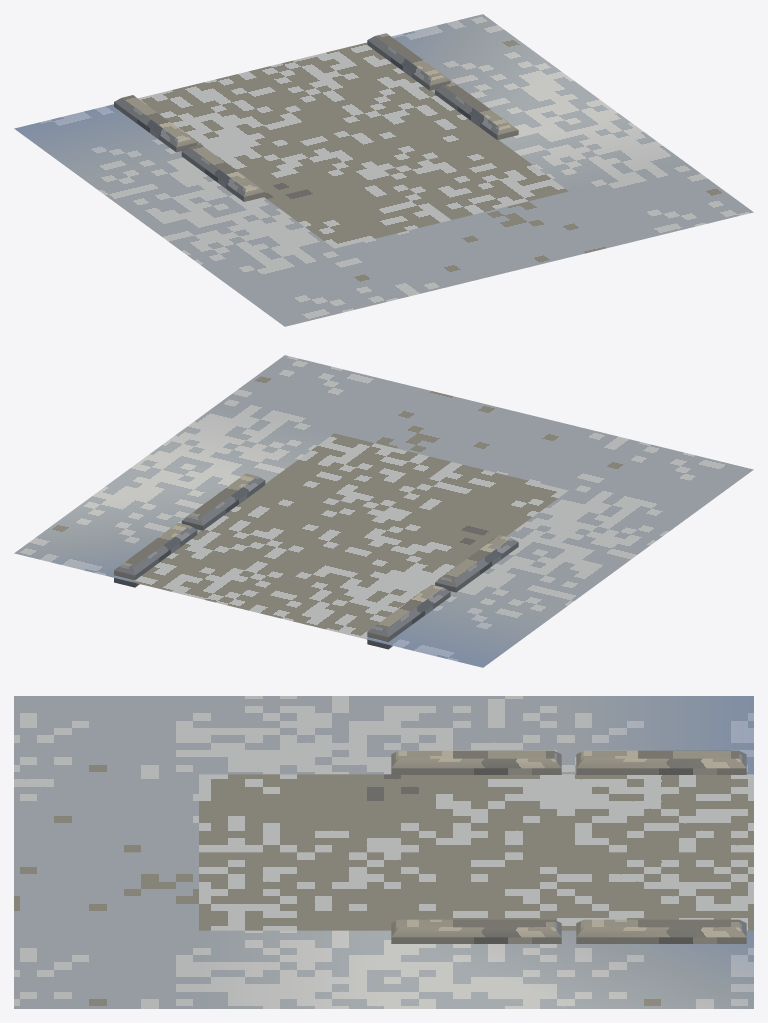
Rendered from mter.ground__path_end.glb.
3 views of the same model, one above another, from view 1: azimuth 30°, elevation 25°; view 2: azimuth 150°, elevation 25°; view 3: azimuth 270°, elevation 25° (orthographic). The views are drawn at different scales.
Visible parts, largest first — view 1: kit_shell_ground, kit_kerbs; view 2: kit_shell_ground, kit_kerbs; view 3: kit_shell_ground, kit_kerbs.
Part boxes in pixels (left/top/right/bottom): kit_shell_ground: left=14, top=14, right=753, bottom=326; kit_kerbs: left=114, top=33, right=518, bottom=201; kit_shell_ground: left=14, top=355, right=753, bottom=667; kit_kerbs: left=114, top=473, right=518, bottom=649; kit_shell_ground: left=14, top=696, right=753, bottom=1008; kit_kerbs: left=391, top=750, right=746, bottom=943.
Size of the model in its own units: 4 by 0.14 by 4.
3 materials, 3 textured.
